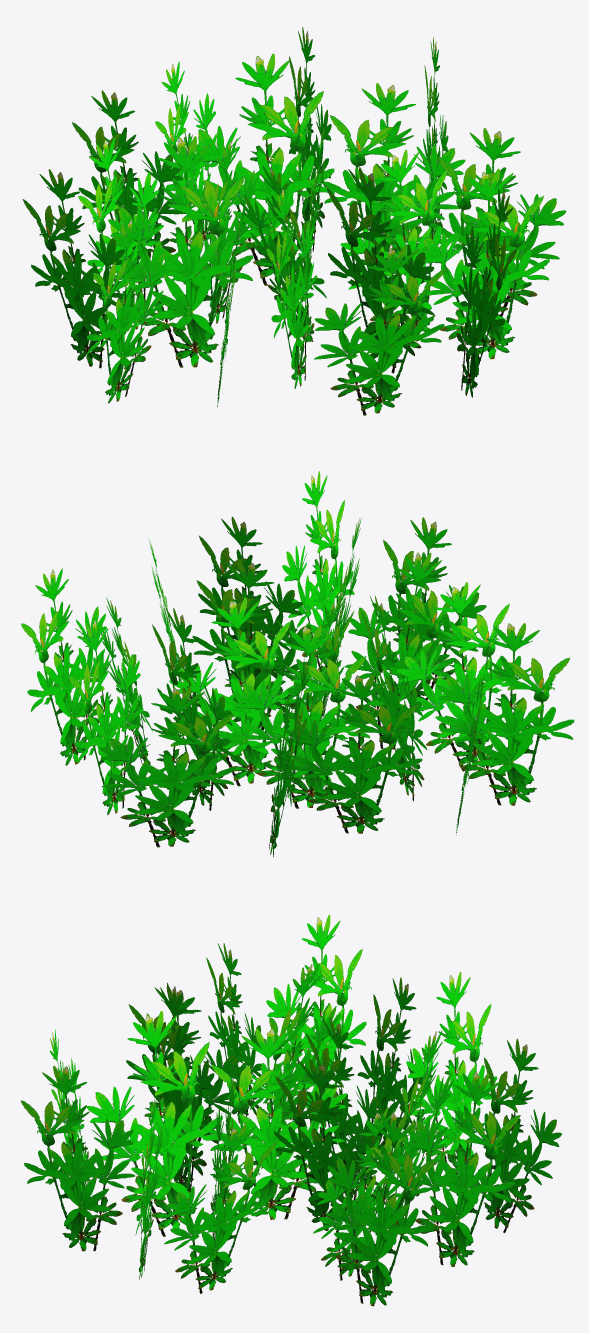
File: ForestPlant1-2.fbx
3 renders of one model, top to bottom at view 1: azimuth 30°, elevation 25°; view 2: azimuth 150°, elevation 25°; view 3: azimuth 270°, elevation 25°, orthographic. The views are drawn at different scales.
Visible parts, largest first — view 1: ForestPlant1-2; view 2: ForestPlant1-2; view 3: ForestPlant1-2.
Boxes of the visible parts, x1,y1,x2,y2 form: ForestPlant1-2: [22, 27, 566, 415]; ForestPlant1-2: [21, 471, 574, 857]; ForestPlant1-2: [20, 914, 561, 1306].
Bounding box in the file's own units: 169 × 76.84 × 178.
